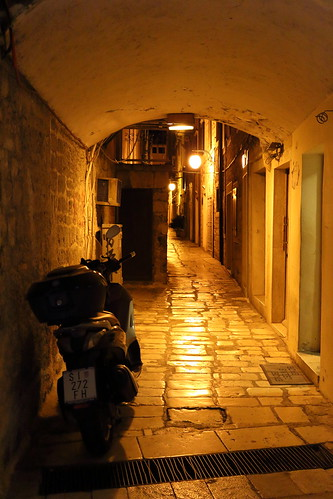building: (198, 116, 333, 499), (86, 113, 179, 281)
motorcycle: (24, 258, 153, 447)
